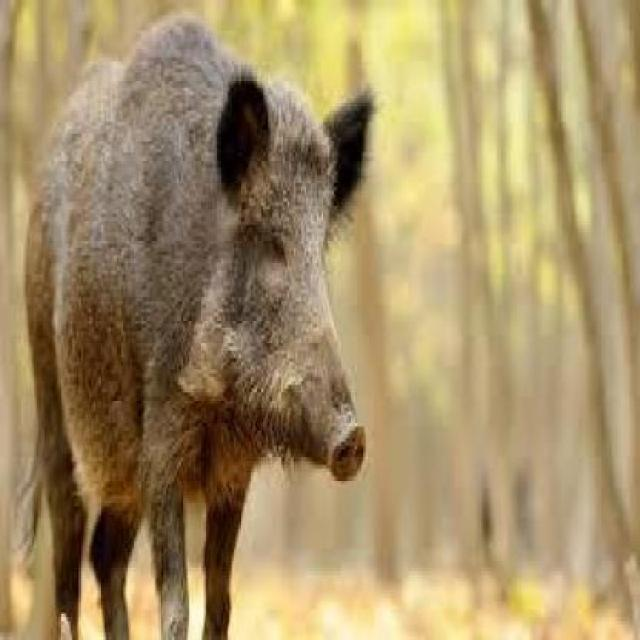wildboar: (15, 11, 374, 640)
